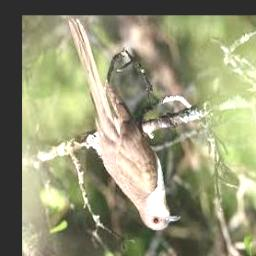Cuckoo: (70, 18, 180, 231)
